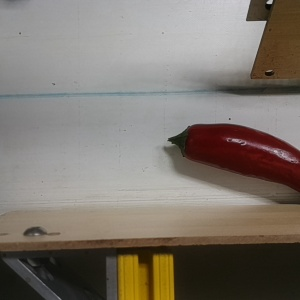Cut Point: (171, 121, 201, 163)
